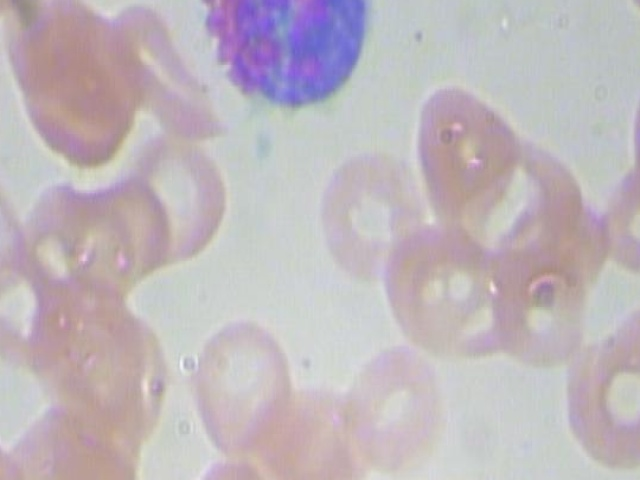RBC: (1, 0, 146, 166), (396, 60, 524, 240), (98, 0, 238, 153), (181, 308, 305, 456), (373, 209, 497, 357), (110, 131, 235, 276), (329, 334, 453, 480), (232, 363, 379, 480), (317, 146, 428, 284), (565, 295, 640, 475), (489, 241, 588, 368), (0, 219, 61, 371), (93, 171, 171, 277), (0, 151, 38, 303), (595, 157, 640, 284), (609, 32, 640, 205), (0, 412, 38, 480), (0, 0, 38, 42)
WBC: (182, 0, 392, 123)
